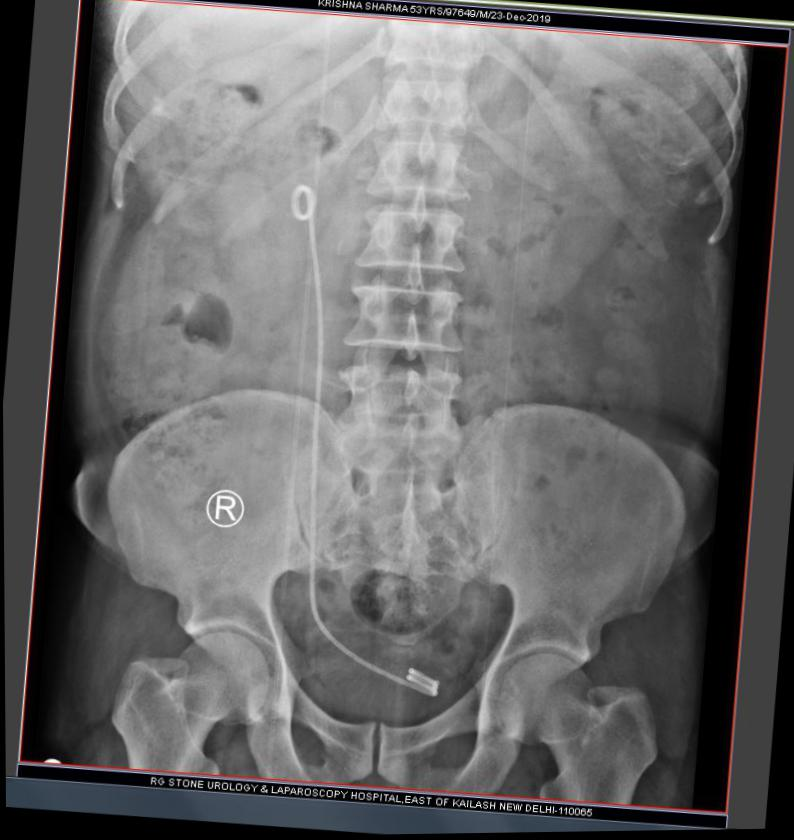bladder: (289, 617, 465, 734)
vertebrae: (371, 71, 474, 145)
